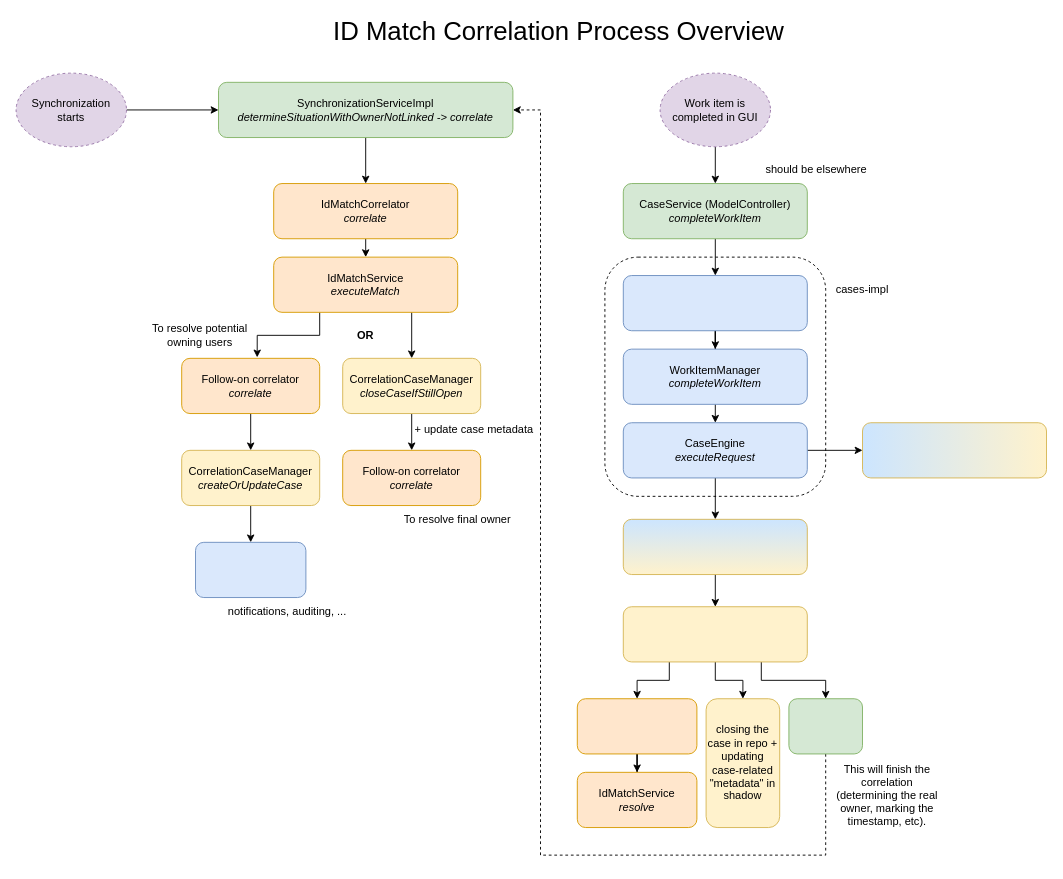
This 1063x879 diagram has some shape labels left out. The shapes that lost their labels are listed below. From the top down, each one's box as (x1, y1, x2, y2) in pixels, then its label:
(622, 275, 807, 331): CaseManager (CaseManagerImpl) completeWorkItem
(862, 422, 1046, 478): CorrelationCaseEngineExtension processWorkItemCompletion, processStageClosing
(622, 518, 807, 575): CorrelationCaseEngineExtension finishCaseClosing
(195, 541, 306, 598): CaseEngine onCaseCreation
(622, 606, 807, 662): CorrelationCaseManager completeCorrelationCase
(576, 698, 697, 754): IdMatchCorrelator resolve
(788, 698, 862, 754): reimporting the shadow
